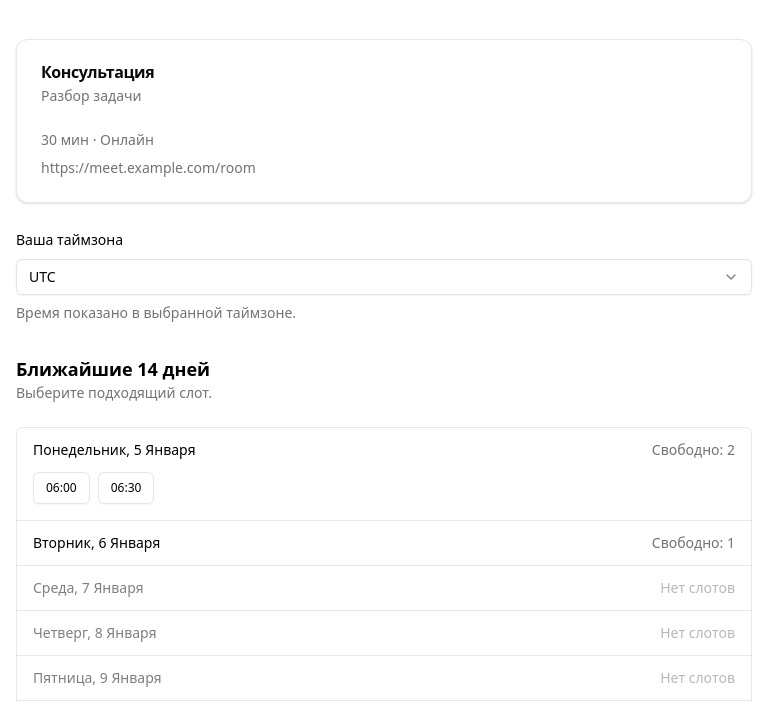
it: PublicBookingPage › creates a booking and shows the one-time link
Click the button "06:00" at (61,488), box x1=33 y1=472 x2=90 y2=504
(page scrolled)
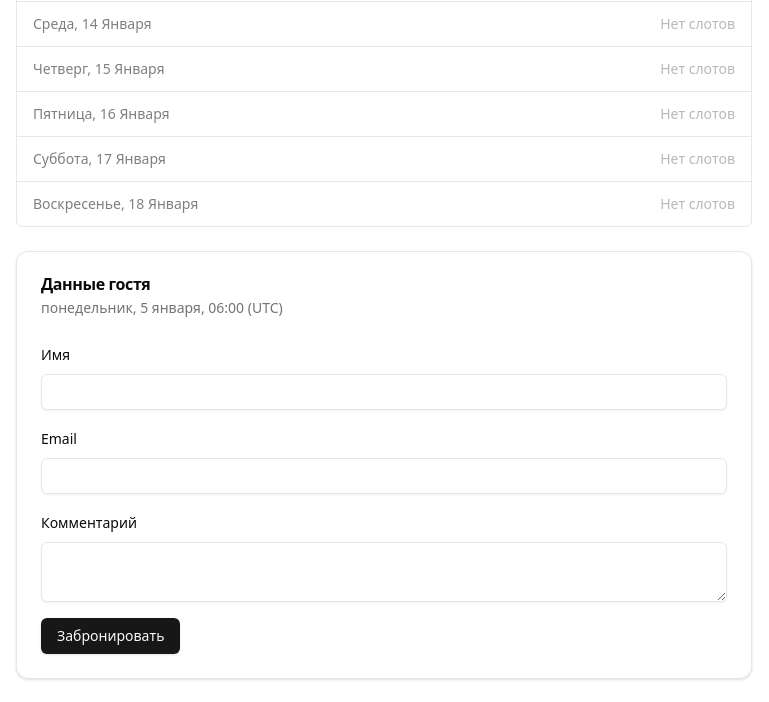
Type "Иван" into the field labelled "Имя" at (384,392), box x1=41 y1=374 x2=727 y2=410
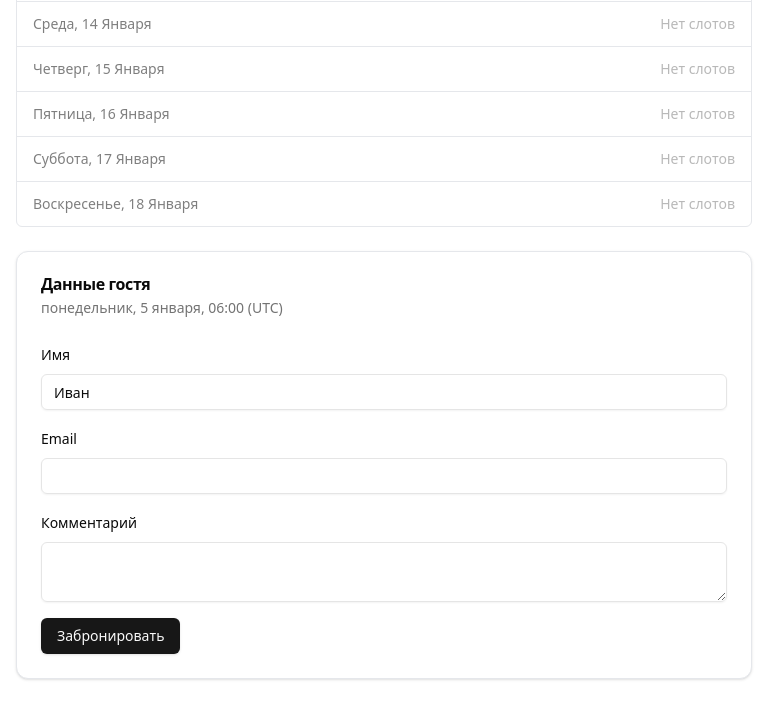
Type "guest@example.com" into the field labelled "Email" at (384,476), box x1=41 y1=458 x2=727 y2=494
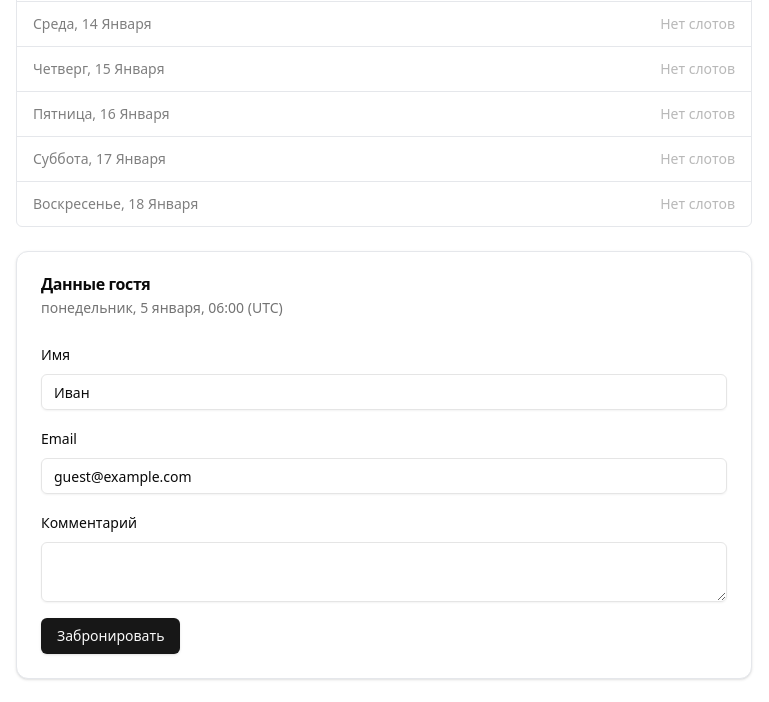
Click the button "Забронировать" at (111,636), box x1=41 y1=618 x2=180 y2=654
(page scrolled)
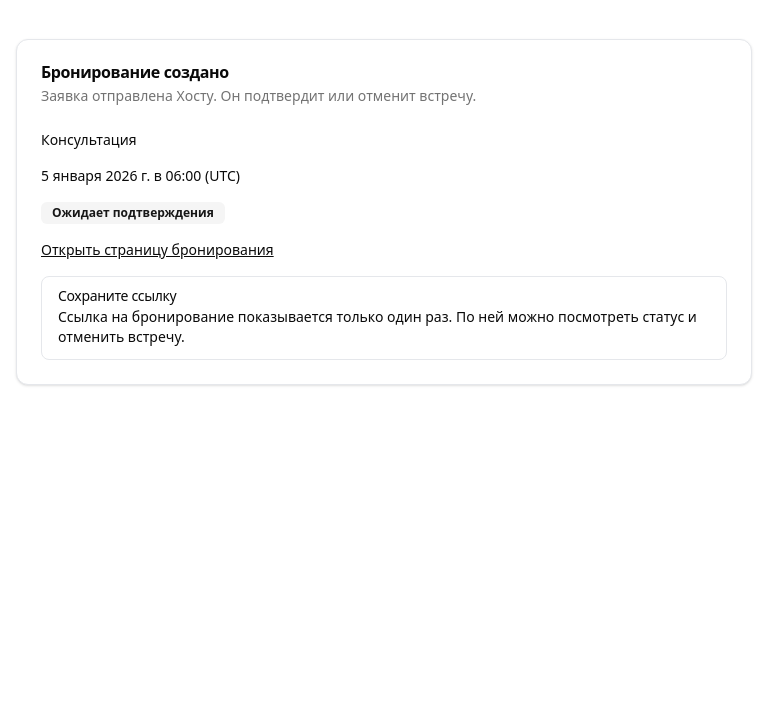
Result: the heading "Бронирование создано" is shown at x1=41 y1=61 x2=229 y2=83
